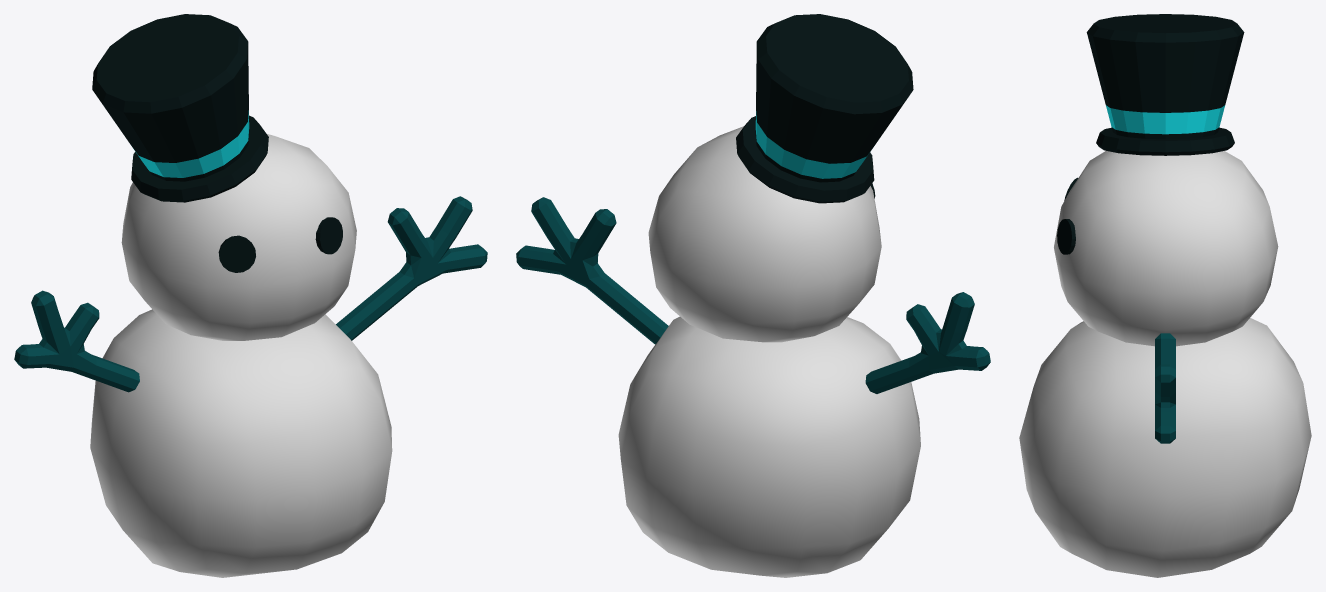
The model's file is CSnowman.fbx.
3 renders of one model, left to right at view 1: azimuth 30°, elevation 25°; view 2: azimuth 150°, elevation 25°; view 3: azimuth 270°, elevation 25°, orthographic. The views are drawn at different scales.
Visible parts, largest first — view 1: Body, Hat, Arms, Eyes; view 2: Body, Hat, Arms; view 3: Body, Hat, Arms, Eyes.
Boxes of the visible parts, <box> form: Body: <box>90,134,392,577</box>; Hat: <box>92,14,268,202</box>; Arms: <box>14,196,487,392</box>; Eyes: <box>218,217,342,272</box>; Body: <box>618,126,920,577</box>; Hat: <box>736,14,913,203</box>; Arms: <box>516,197,990,393</box>; Body: <box>1019,151,1311,577</box>; Hat: <box>1086,14,1244,155</box>; Arms: <box>1155,333,1175,443</box>; Eyes: <box>1057,177,1077,254</box>.
Size of the model in its own units: 294 by 319 by 165.
